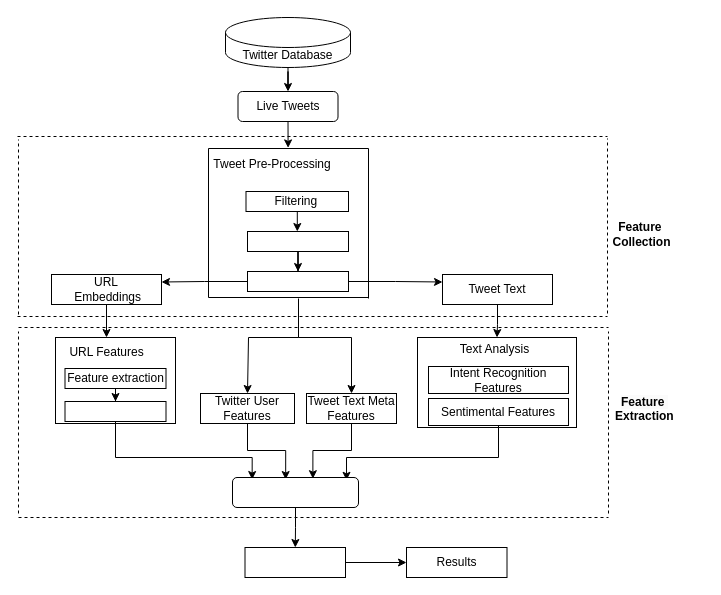
The diagram is 721 pixels wide and 595 high, and some of its shapes have lost their labels. The shapes that lost their labels are listed below. From the top down, each one's centre as x and y in pixels, then its label:
At pixel 297 241: "Cleaning".
At pixel 297 281: "Feature Extractors".
At pixel 115 411: "Feature encoding".
At pixel 295 492: "Feature Vectors".
At pixel 295 562: "Classifier".
